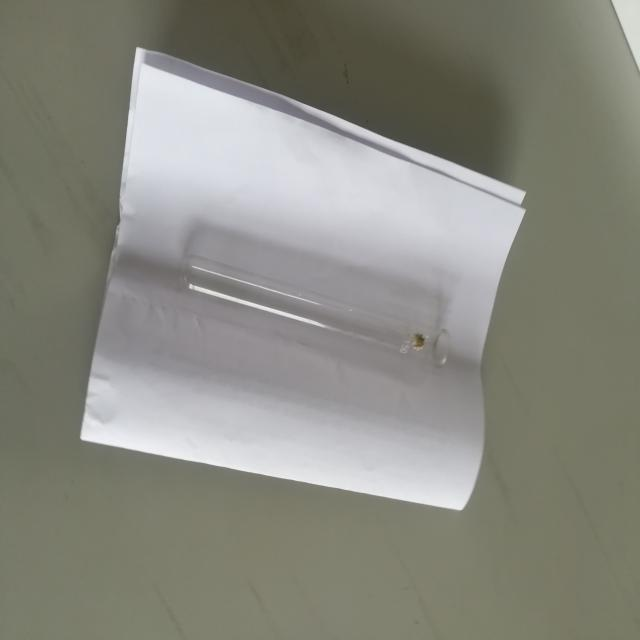Test_Tube: (166, 226, 469, 398)
